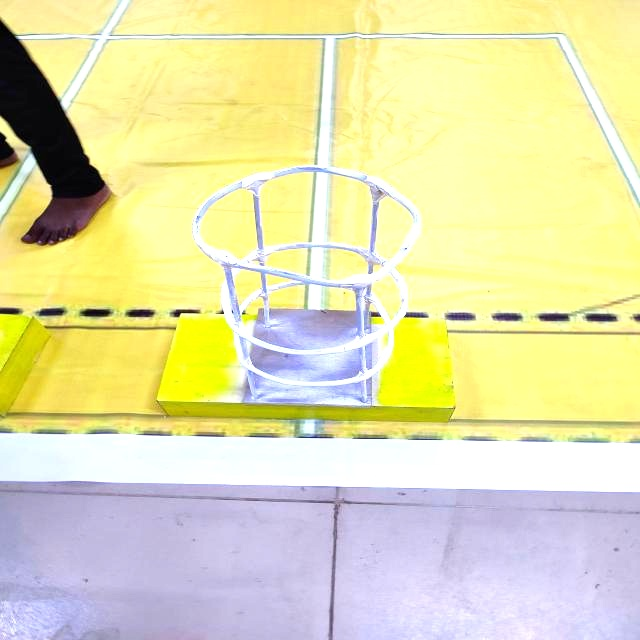silo: (167, 142, 446, 433)
